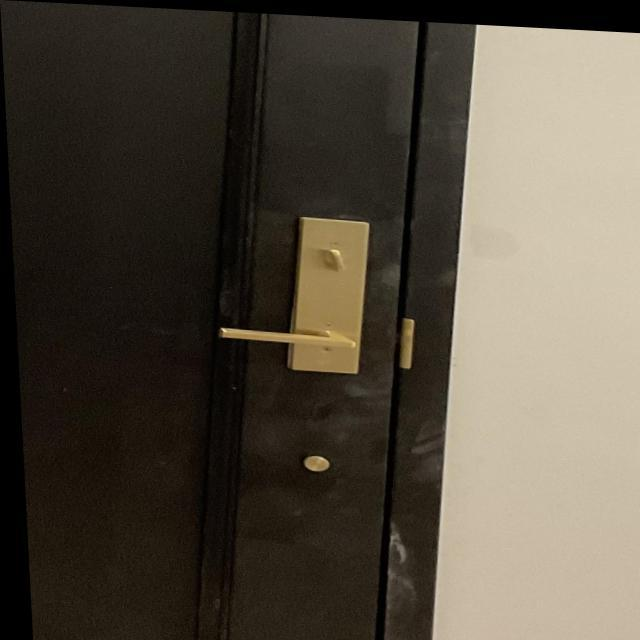door_handle: (196, 306, 384, 361)
